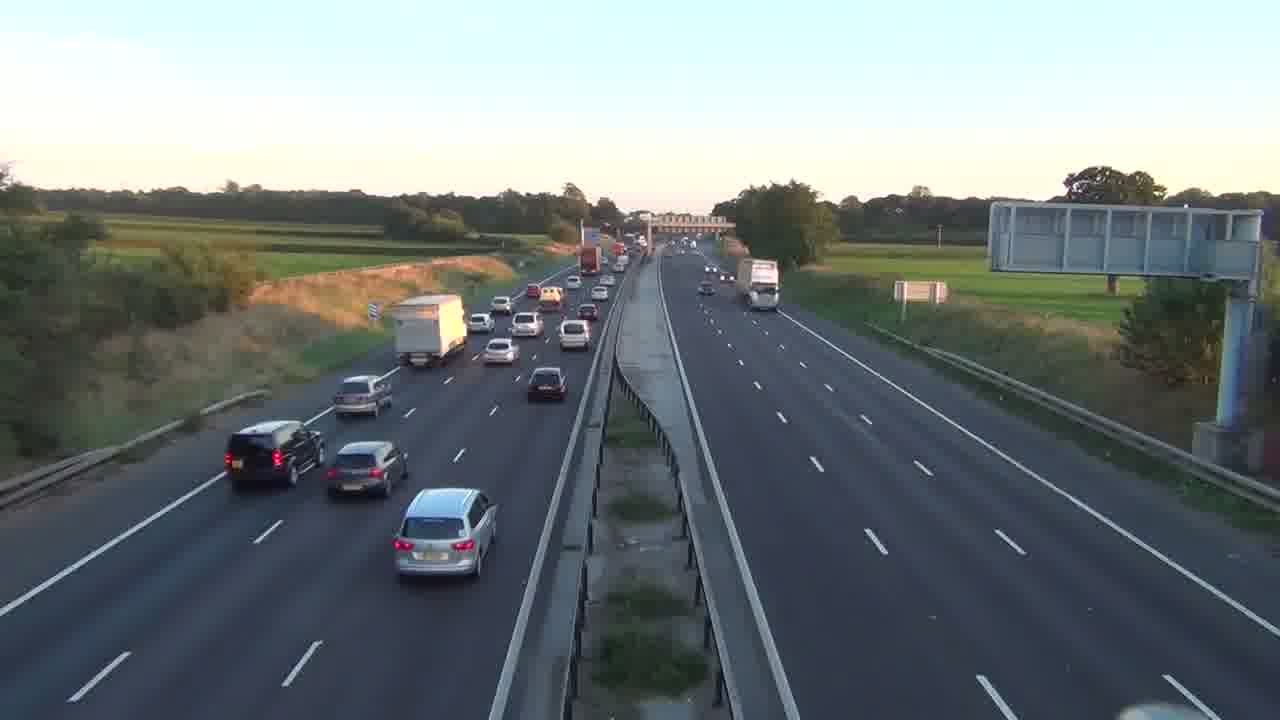car: (388, 486, 501, 581), (322, 439, 409, 499), (526, 366, 567, 403), (482, 338, 520, 366), (559, 319, 592, 351)
truck: (223, 418, 324, 488), (385, 292, 468, 368), (738, 257, 782, 311)
